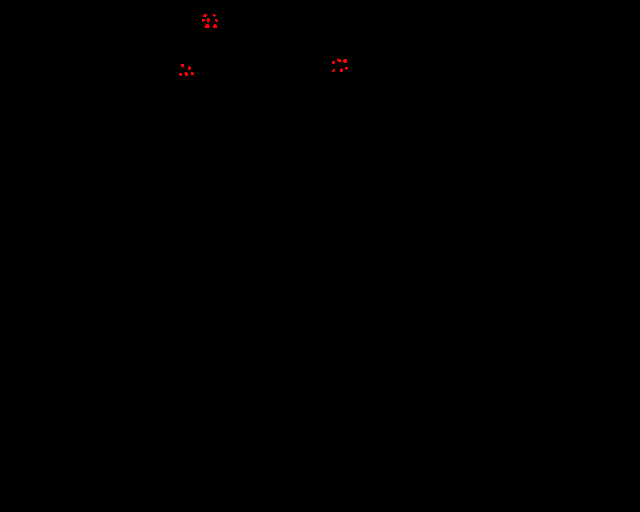Target: (205, 24, 210, 28), (213, 24, 217, 28), (343, 59, 347, 63), (184, 72, 188, 76), (207, 18, 210, 23), (203, 14, 207, 17), (337, 59, 341, 62), (188, 66, 191, 70), (340, 68, 343, 72), (213, 14, 216, 17), (202, 19, 205, 22), (215, 19, 218, 22), (332, 61, 335, 64), (181, 64, 184, 67), (345, 67, 348, 70), (332, 69, 335, 72), (191, 72, 194, 75), (179, 73, 182, 76)
